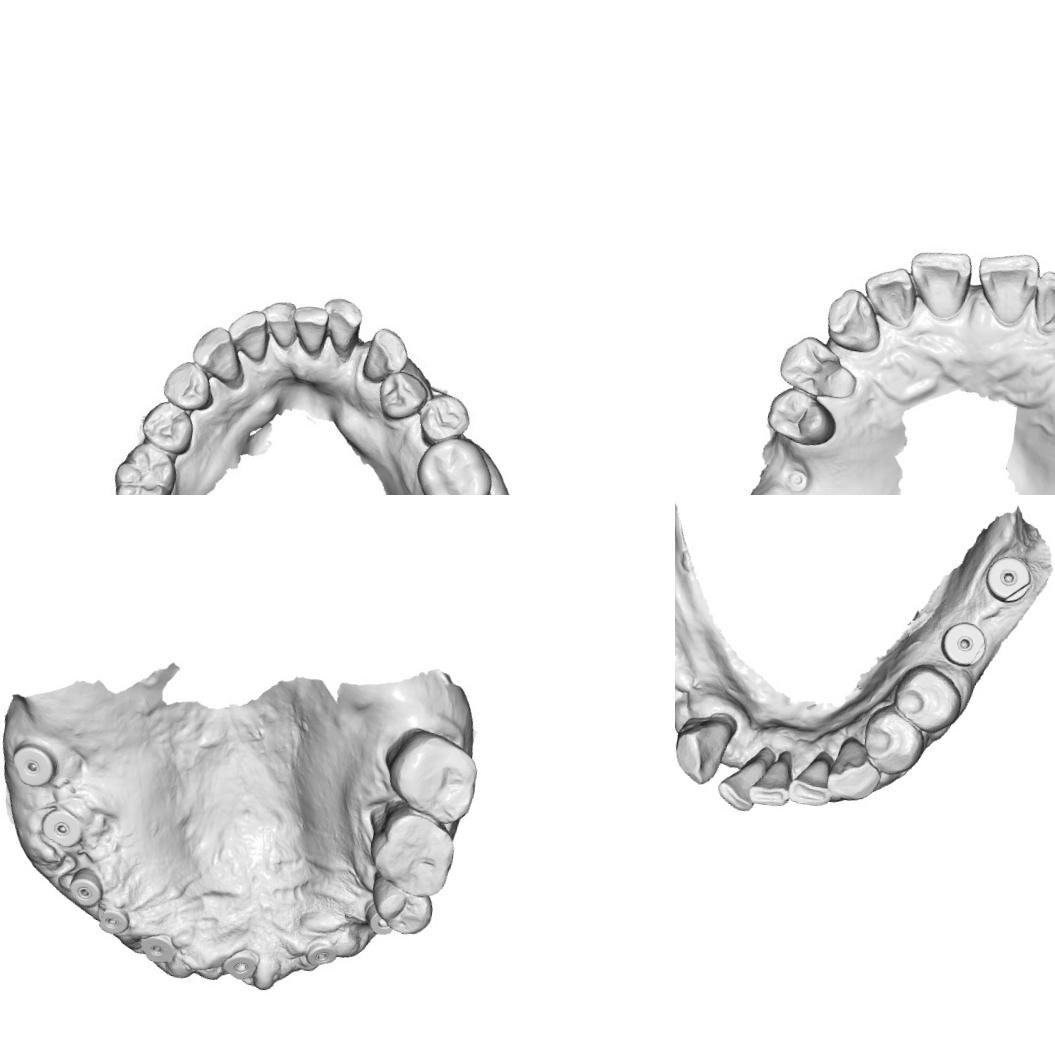canine: (821, 283, 888, 357), (675, 708, 735, 789), (823, 731, 885, 807), (184, 320, 250, 388), (356, 322, 415, 388)
implant: (937, 616, 992, 668), (982, 553, 1034, 605), (9, 740, 62, 790), (37, 805, 87, 849), (66, 864, 106, 910), (218, 944, 261, 984), (136, 929, 178, 966), (96, 904, 132, 938), (301, 938, 339, 970), (780, 462, 815, 495)
incisor: (970, 246, 1042, 331), (902, 242, 976, 324), (858, 260, 922, 332), (744, 750, 797, 810), (713, 758, 766, 816), (787, 750, 838, 810), (320, 298, 364, 357), (228, 306, 272, 363), (290, 306, 334, 357), (1026, 267, 1055, 340), (262, 299, 300, 350)
molar: (378, 723, 484, 828), (361, 799, 462, 902), (411, 429, 499, 495), (108, 437, 177, 495)
premolar: (774, 330, 862, 404), (890, 660, 968, 740), (759, 382, 842, 451), (855, 702, 928, 780), (366, 870, 438, 939), (414, 387, 477, 446), (372, 367, 427, 428), (161, 360, 214, 420), (142, 398, 194, 450)
